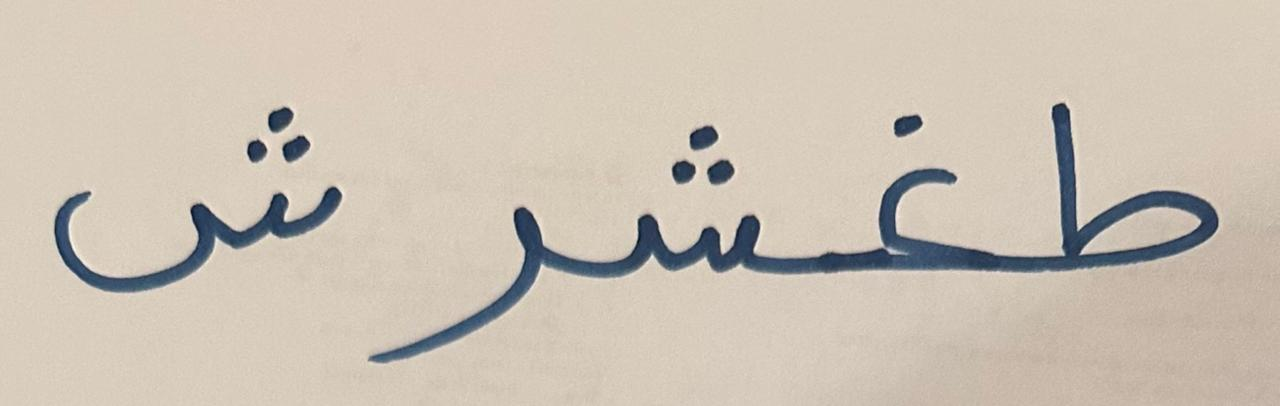ghain: (790, 36, 1000, 368)
sad: (358, 127, 561, 377)
tah: (33, 49, 354, 347), (563, 16, 786, 332)
teh: (1004, 42, 1251, 325)
